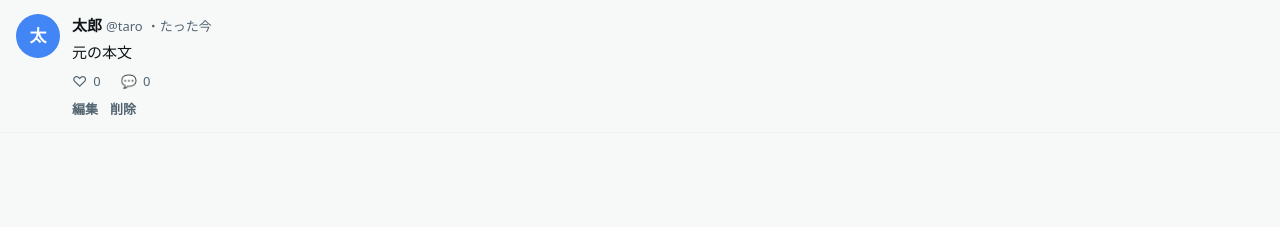
PostCard › saves the edit and exits edit mode on success
Click the button "編集".
click(85, 108)  # box [72,99,98,118]
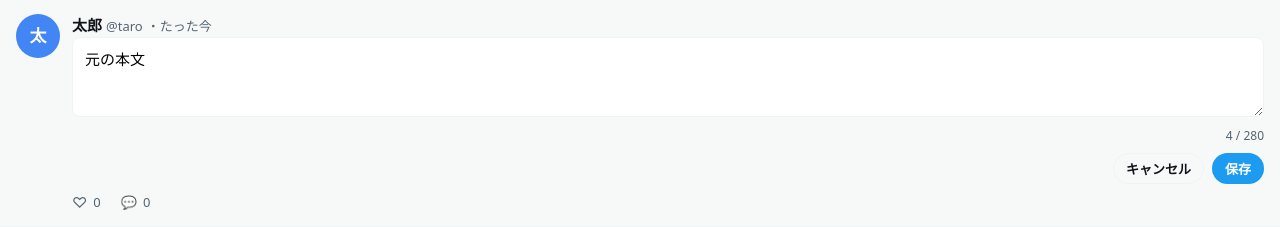
Replace the text in the text box showing "元の本文" with "更新後の本文" at (668, 76), box [72,36,1264,116]
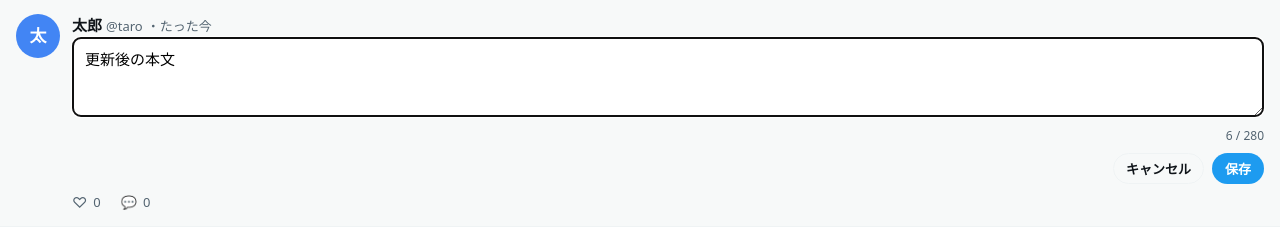
Click the button "保存".
click(1238, 168)  # box [1212,152,1264,184]
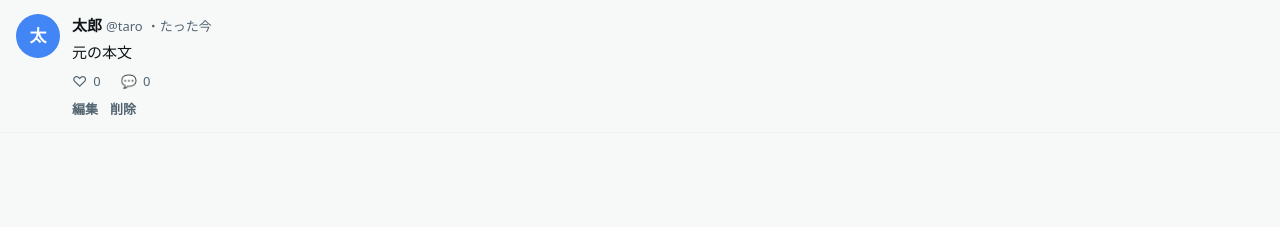
Result: the button "保存" is gone
